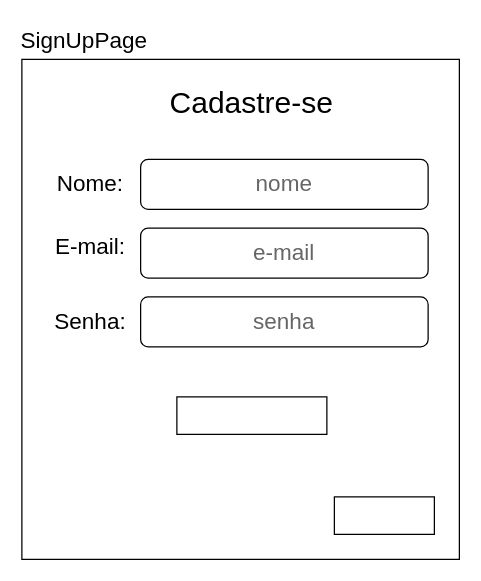
The diagram is 481 pixels wide and 581 high, and some of its shapes have lost their labels. The centre of each missing label's shape, as x and y in pixels:
"Cadastrar" goes at point 251,415.
"Voltar" goes at point 383,515.
